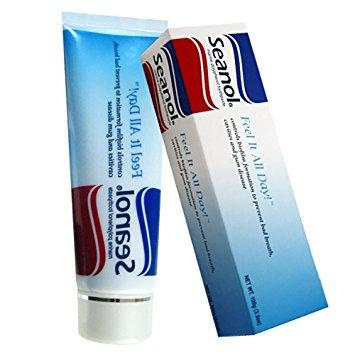toothpaste: (56, 10, 189, 355)
